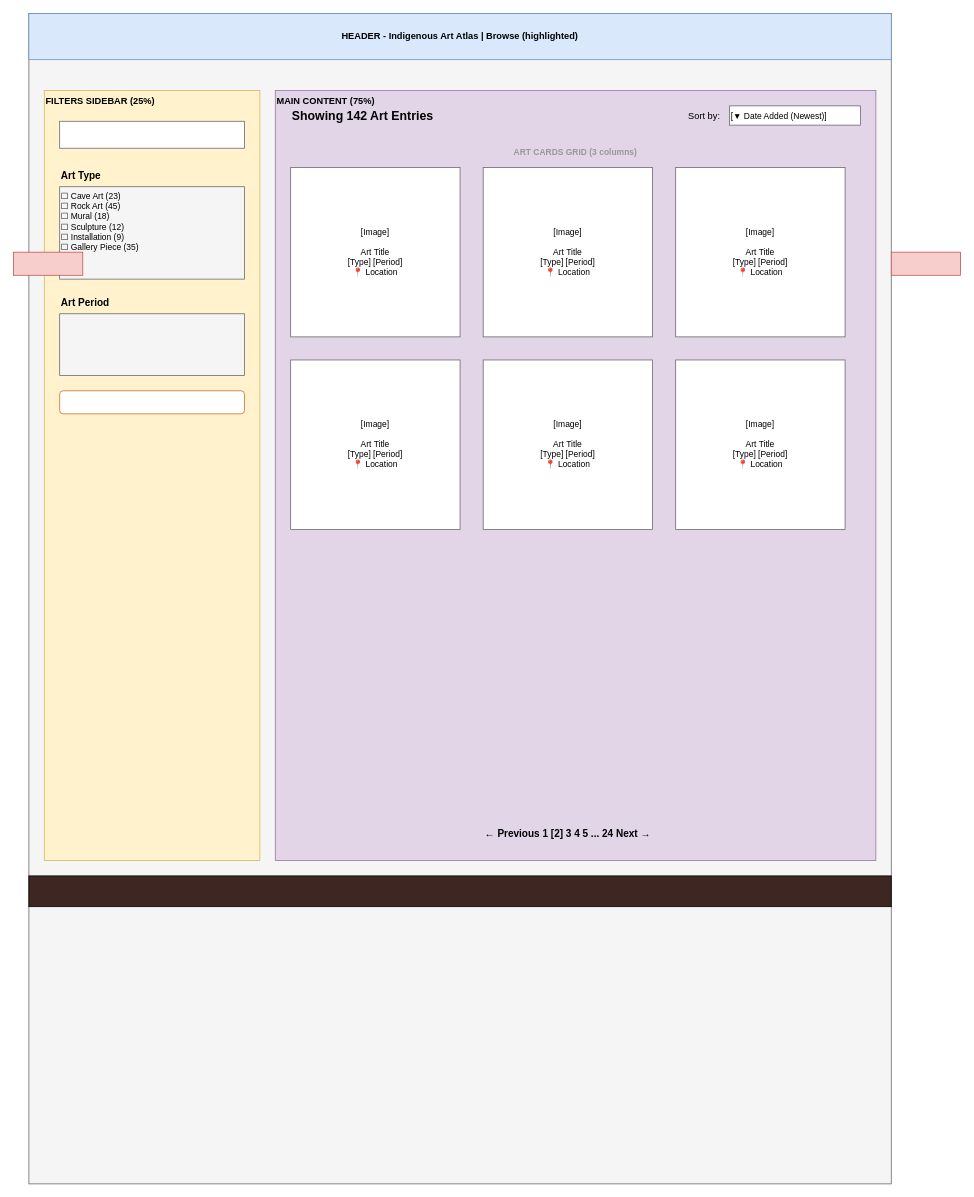
This 974x1197 diagram has some shape labels left out. Each missing label, with the centre of its shape:
Clear Filters: point 151,402
FOOTER: point 459,891
☐ Ancient (67) ☐ Colonial Era (15) ☐ Modern (28) ☐ Contemporary (32): point 151,344
💡 Cards have hover effect: point 926,263
💡 Filters apply instantly (AJAX): point 48,263
🔍 [Search by title, artist, keywords...]: point 151,134
